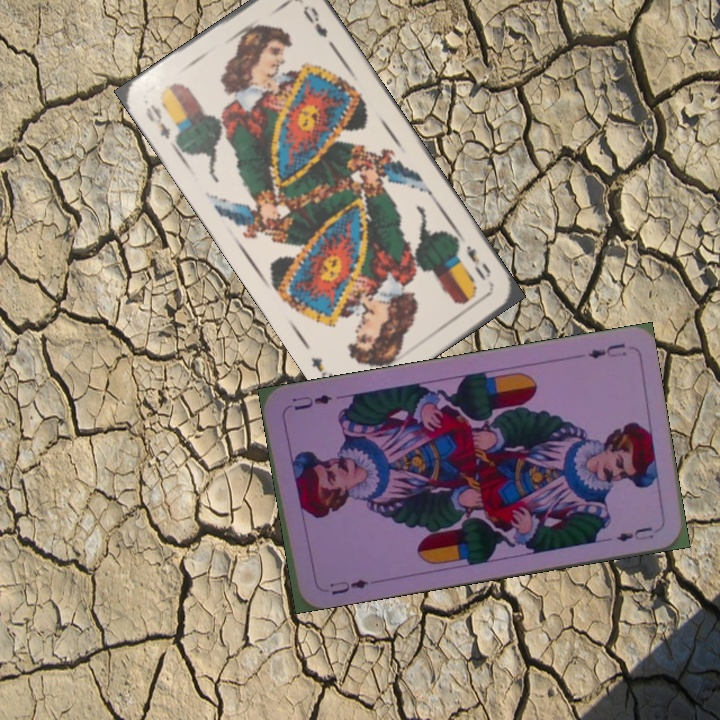EO: (141, 100, 173, 143), (462, 241, 494, 283)
EU: (326, 575, 371, 598), (584, 339, 629, 361)
